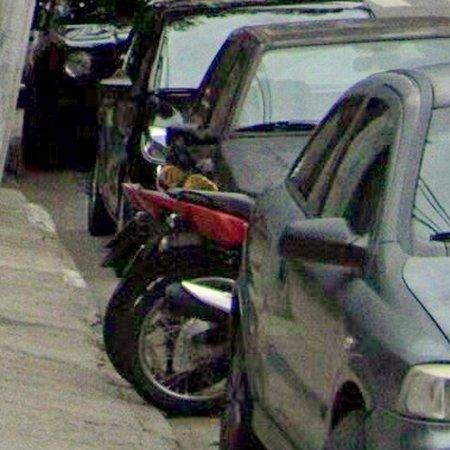motorcycles: (105, 184, 252, 414)
